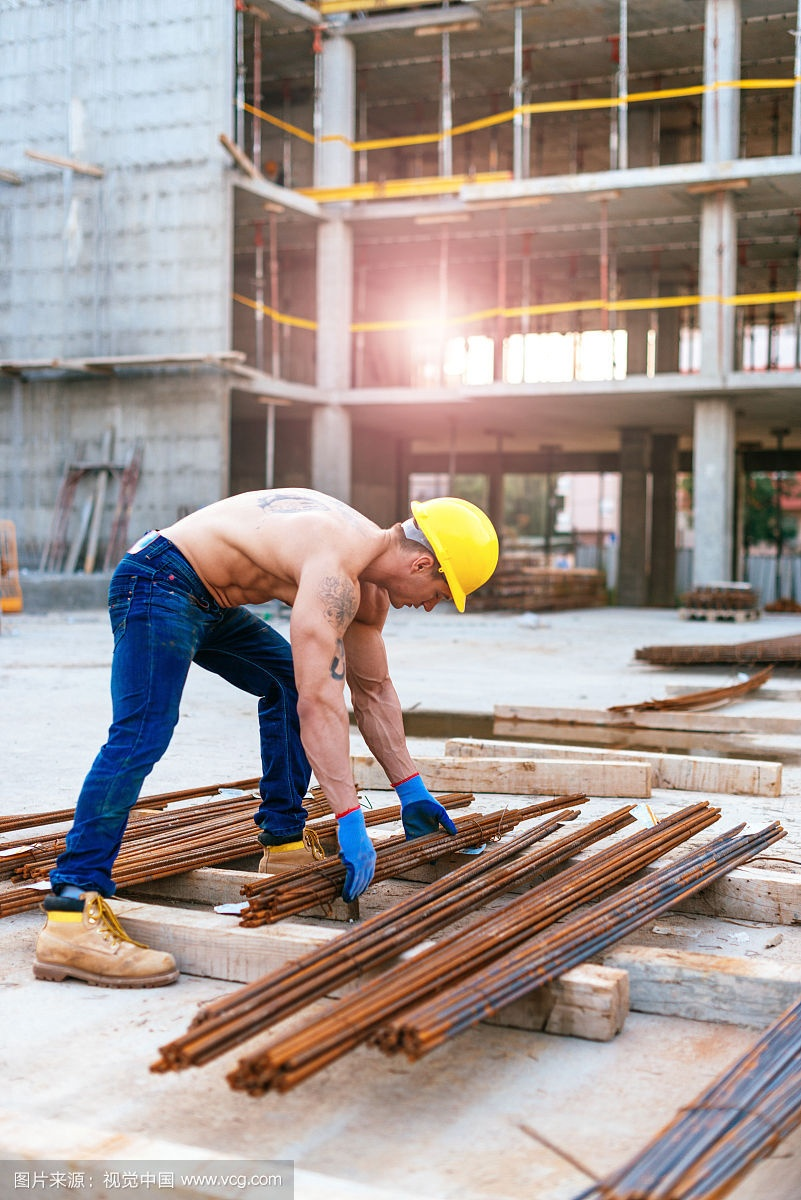yellow: (388, 492, 502, 617)
